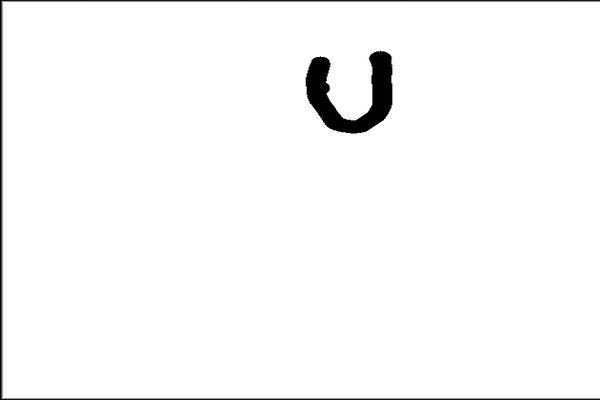U: (300, 46, 401, 137)
